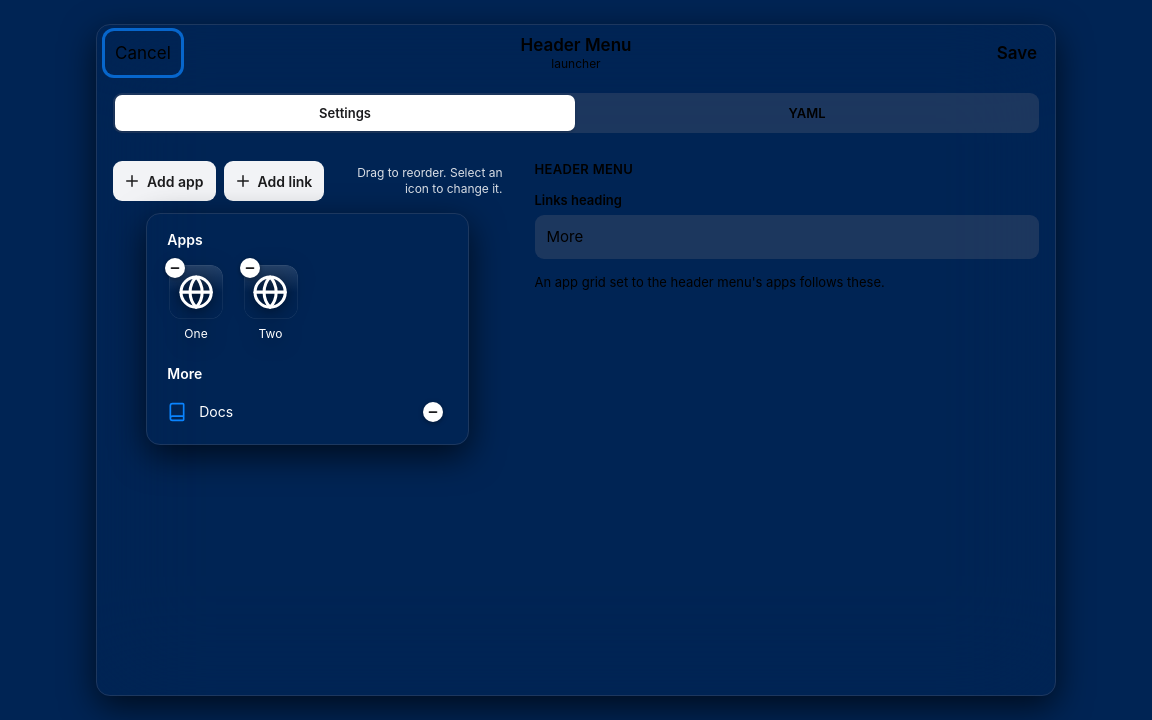
it: HeaderMenuEditor › edits as YAML
Click the tab "YAML" at coordinates (807, 113), box [577,95,1037,131]
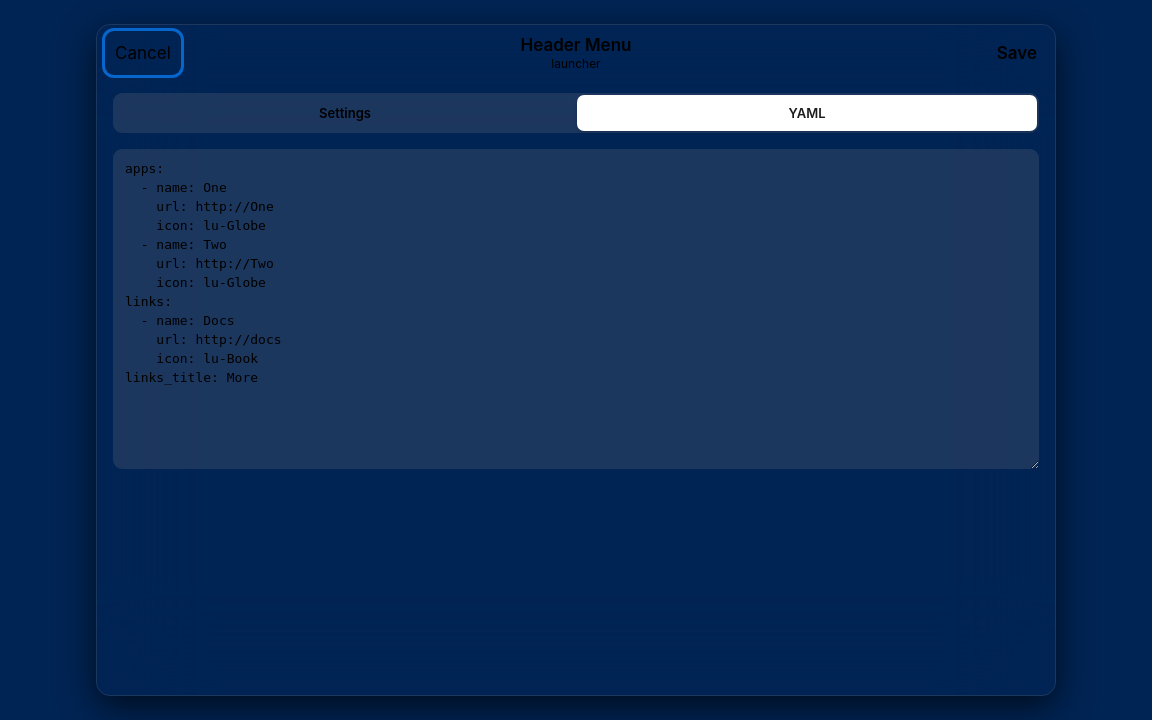
Replace the text in the text box named "Header menu YAML" with "apps: [unclosed" at coordinates (576, 309), box [113,149,1039,469]
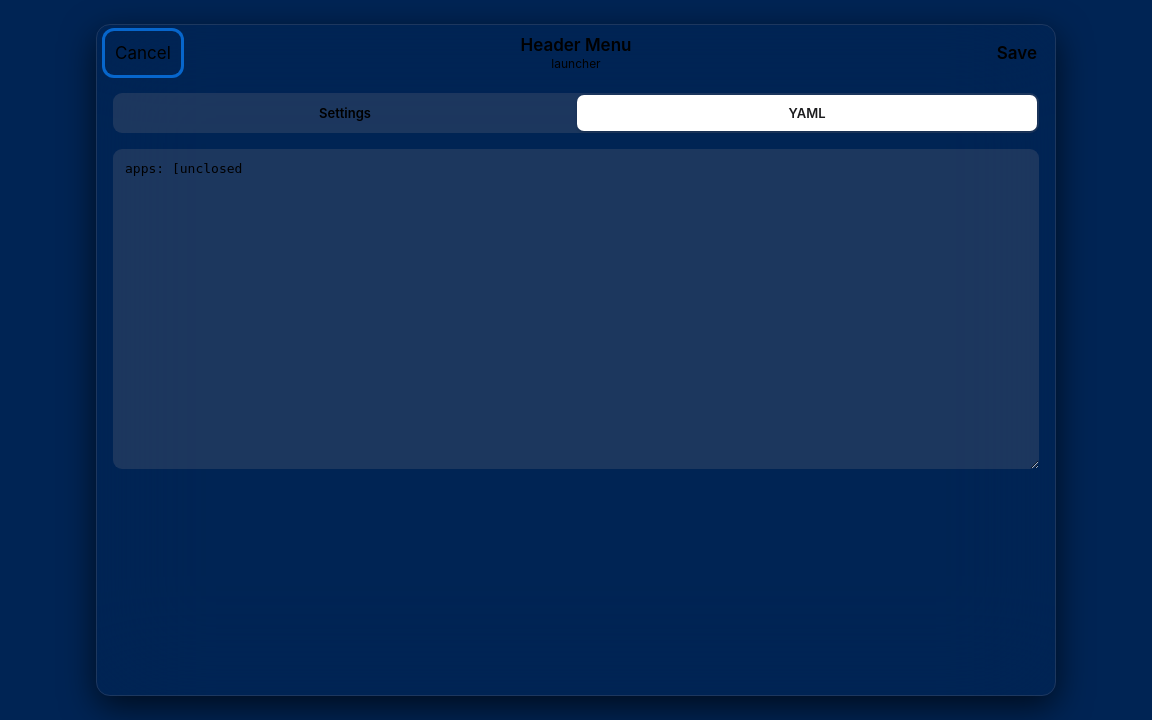
Click the button "Save" at coordinates (1017, 53), box [987,31,1047,75]
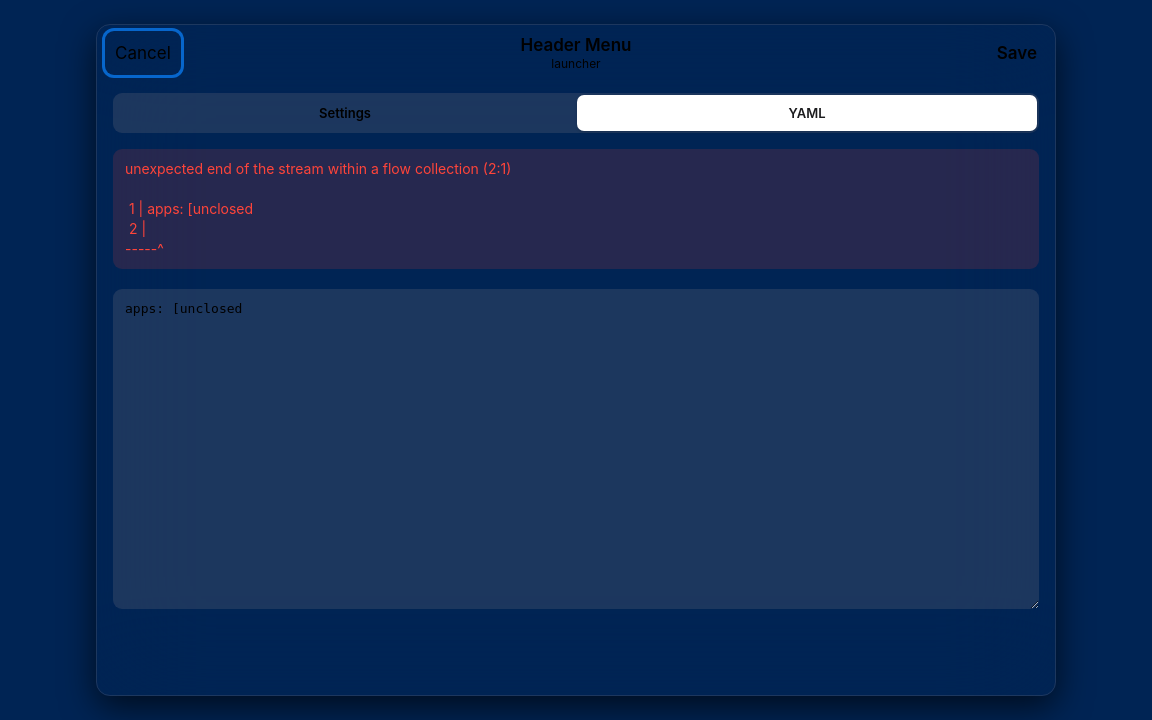
Expected: the message is shown, [113,149,1039,269]
